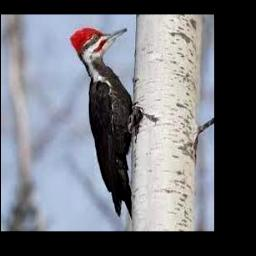Woodpecker: (70, 28, 140, 220)
